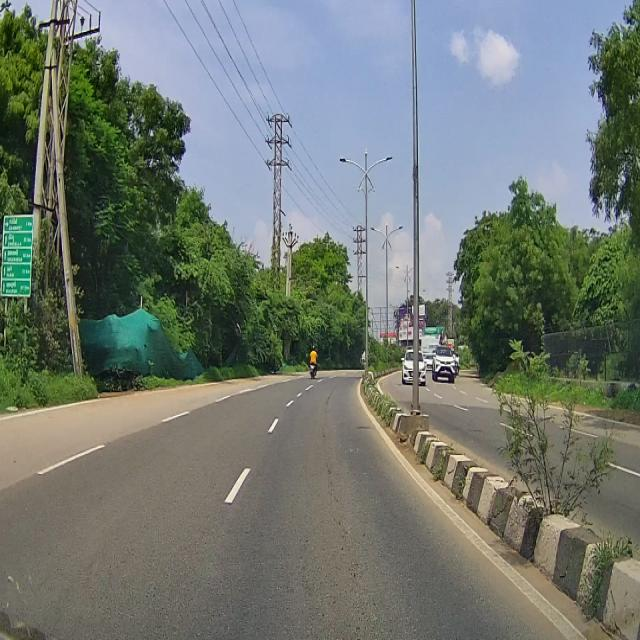electric pole ahead at: (20, 2, 111, 377)
